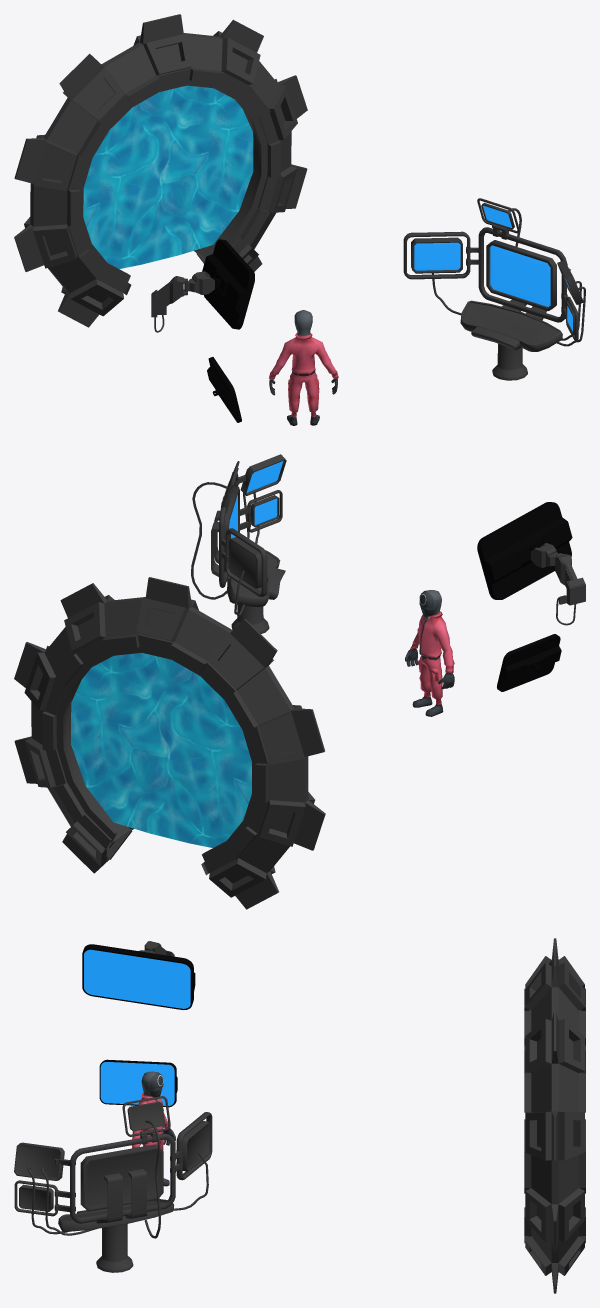
3 views of the same model, one above another, from view 1: azimuth 30°, elevation 25°; view 2: azimuth 150°, elevation 25°; view 3: azimuth 270°, elevation 25° (orthographic). The views are drawn at different scales.
Visible parts, largest first — view 1: Portal 7_less, Circle, Object003, Object003.001, squid_circle, Monitor.001, Monitor, Monitor.002; view 2: Portal 7_less, Circle, Object003, Monitor.001, squid_circle, Monitor.002, Monitor, Object003.001; view 3: Portal 7_less, Object003, Monitor.001, Monitor.002, squid_circle.
Part boxes in pixels (bbox=[...]): Portal 7_less: bbox=[14, 14, 307, 327]; Circle: bbox=[83, 85, 253, 268]; Object003: bbox=[403, 198, 585, 380]; Object003.001: bbox=[414, 205, 572, 331]; squid_circle: bbox=[268, 310, 338, 425]; Monitor.001: bbox=[202, 239, 254, 329]; Monitor: bbox=[151, 271, 214, 332]; Monitor.002: bbox=[207, 357, 241, 422]; Portal 7_less: bbox=[14, 577, 325, 909]; Circle: bbox=[71, 653, 251, 847]; Object003: bbox=[191, 454, 286, 633]; Monitor.001: bbox=[477, 502, 572, 599]; squid_circle: bbox=[405, 590, 454, 716]; Monitor.002: bbox=[497, 634, 561, 691]; Monitor: bbox=[531, 543, 585, 625]; Object003.001: bbox=[229, 461, 283, 538]; Portal 7_less: bbox=[524, 938, 585, 1293]; Object003: bbox=[14, 1096, 212, 1272]; Monitor.001: bbox=[82, 944, 195, 1009]; Monitor.002: bbox=[99, 1059, 177, 1107]; squid_circle: bbox=[131, 1071, 176, 1186].
Bounding box in the file's own units: 7.92 × 5.86 × 10.06.
5 materials, 2 textured.
